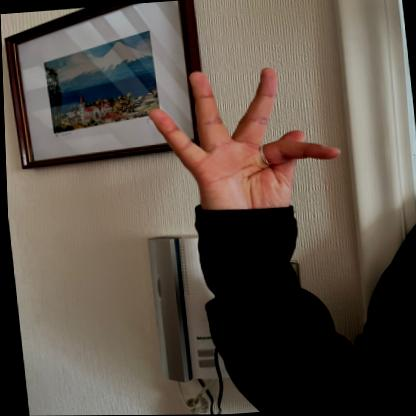F: (139, 54, 352, 234)
